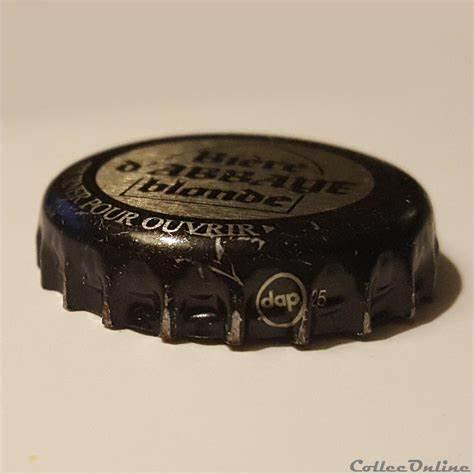metal: (37, 135, 439, 346)
